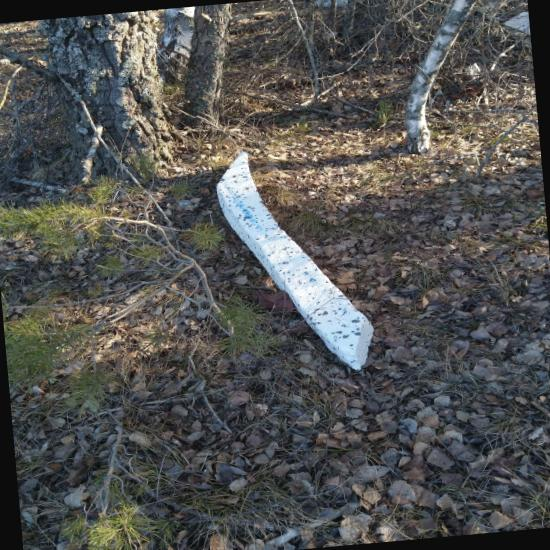Drink can: (195, 429, 445, 550), (167, 35, 415, 145)
